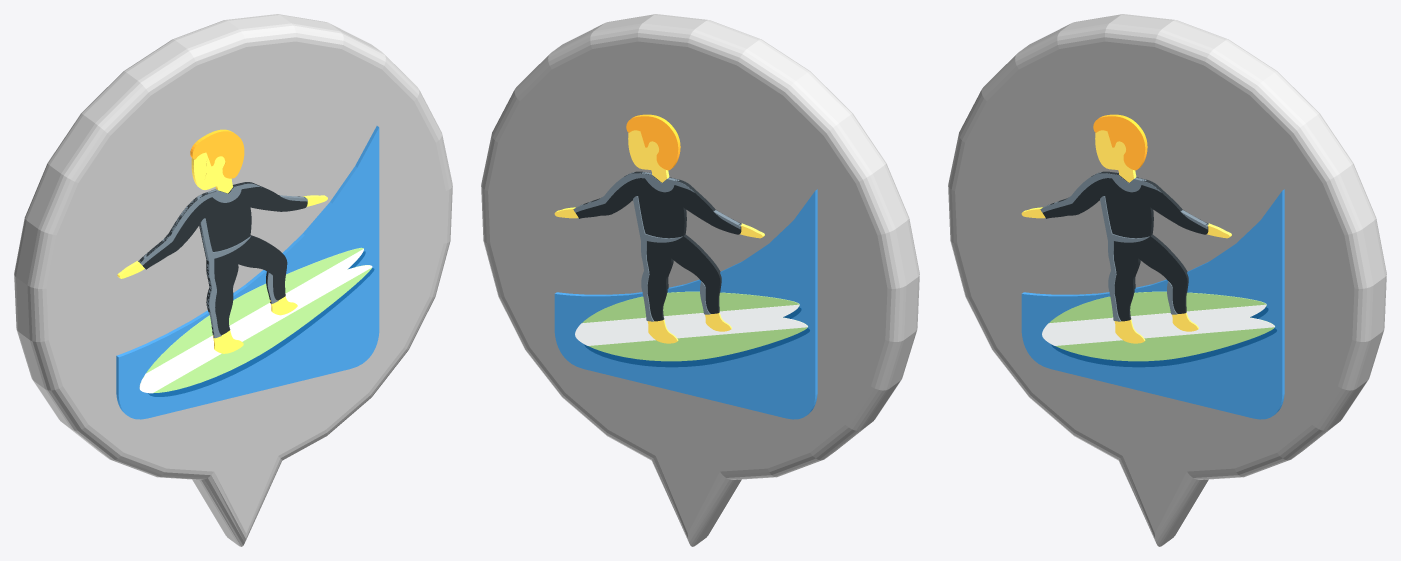
The model's file is man_surfing.glb.
3 views of the same model, side by side, from view 1: azimuth 30°, elevation 25°; view 2: azimuth 150°, elevation 25°; view 3: azimuth 330°, elevation 25° (orthographic).
Parts seen in each view (by area): view 1: EmotionBubble; view 2: EmotionBubble; view 3: EmotionBubble.
Boxes of the visible parts, bbox=[...] form: EmotionBubble: bbox=[14, 14, 452, 546]; EmotionBubble: bbox=[481, 14, 919, 546]; EmotionBubble: bbox=[948, 14, 1386, 546].
Size of the model in its own units: 5.29 by 6.16 by 0.76.
